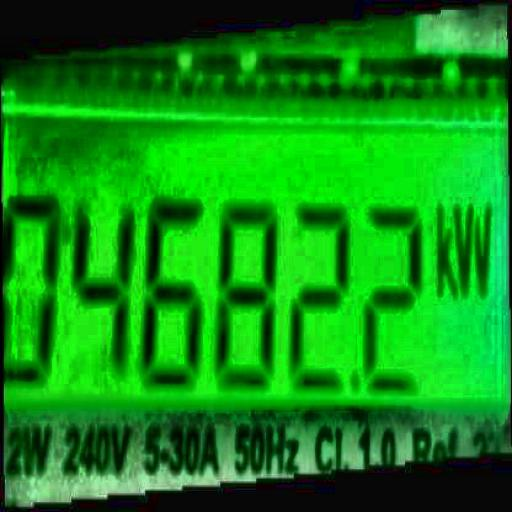DISPLAY_REGION: (7, 99, 511, 407)
SERIAL_REGION: (9, 192, 496, 398)
